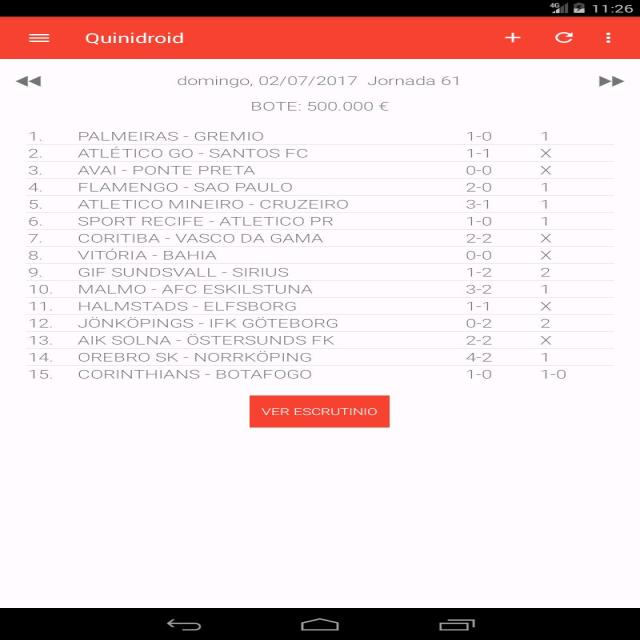button: (242, 392, 395, 429), (592, 74, 640, 99), (491, 27, 536, 50), (544, 26, 586, 50), (14, 71, 49, 94), (21, 31, 55, 50), (600, 23, 621, 50)
heading: (81, 28, 188, 49)
text: (21, 126, 629, 384), (170, 68, 475, 117)
